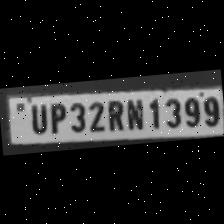1: (143, 94, 163, 129)
2: (84, 96, 106, 132)
3: (160, 93, 182, 129), (66, 97, 86, 132)
9: (199, 90, 221, 127), (180, 92, 200, 126)
N: (122, 94, 146, 130)
P: (45, 99, 67, 134)
R: (103, 94, 125, 132)
U: (24, 100, 48, 134)
